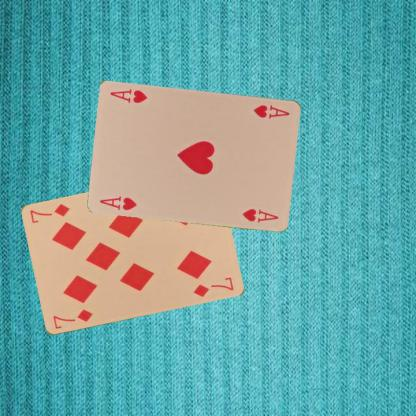7d: (50, 306, 94, 331)
Ah: (97, 193, 138, 211), (251, 102, 291, 120)
